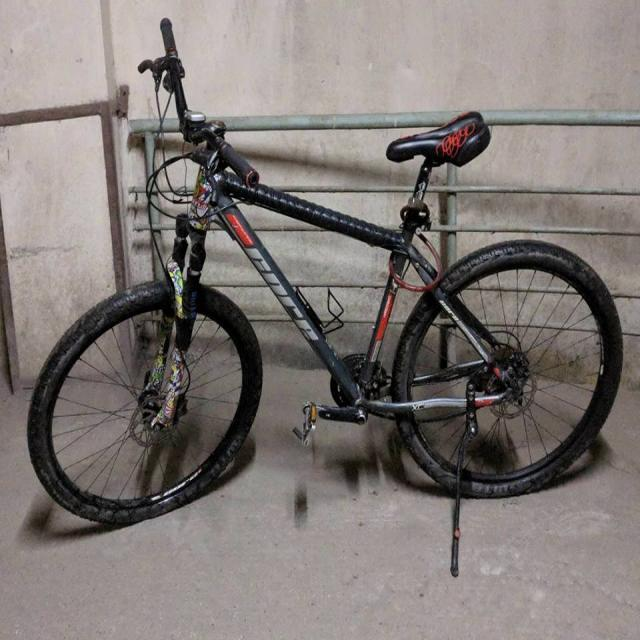Bicycle: (18, 12, 633, 546)
